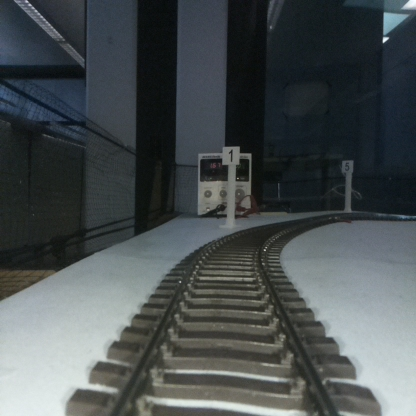white-info-1: (222, 147, 239, 227)
white-info-5: (342, 159, 353, 214)
